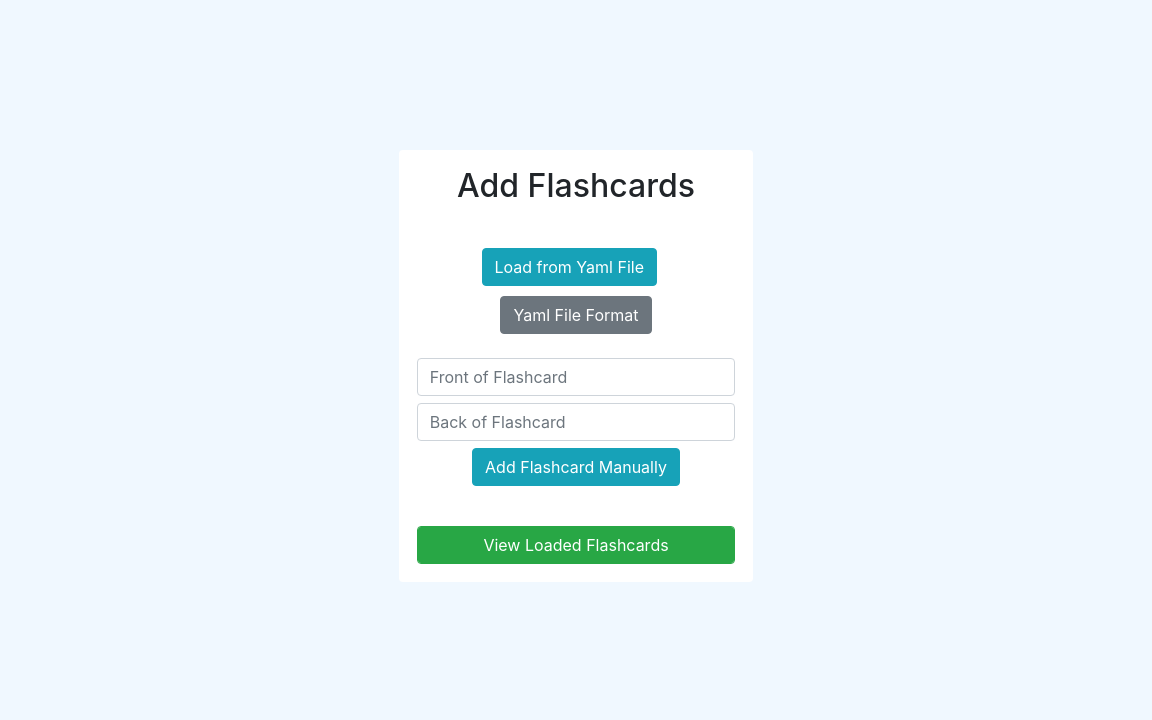
Scenario: Render popup with no flashcards
The image size is (1152, 720).
Click the button "View Loaded Flashcards" at (576, 545), box [417,526,735,564]
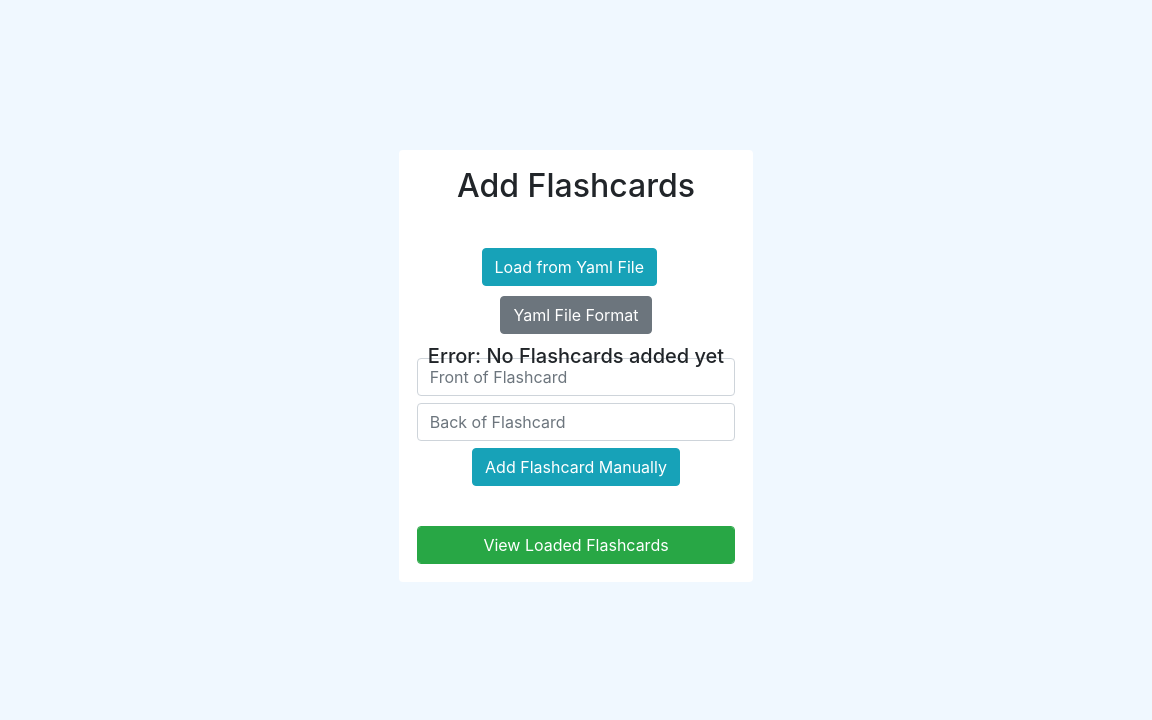
Check: the heading "Error: No Flashcards added yet" is shown, box [428,344,724,368]
